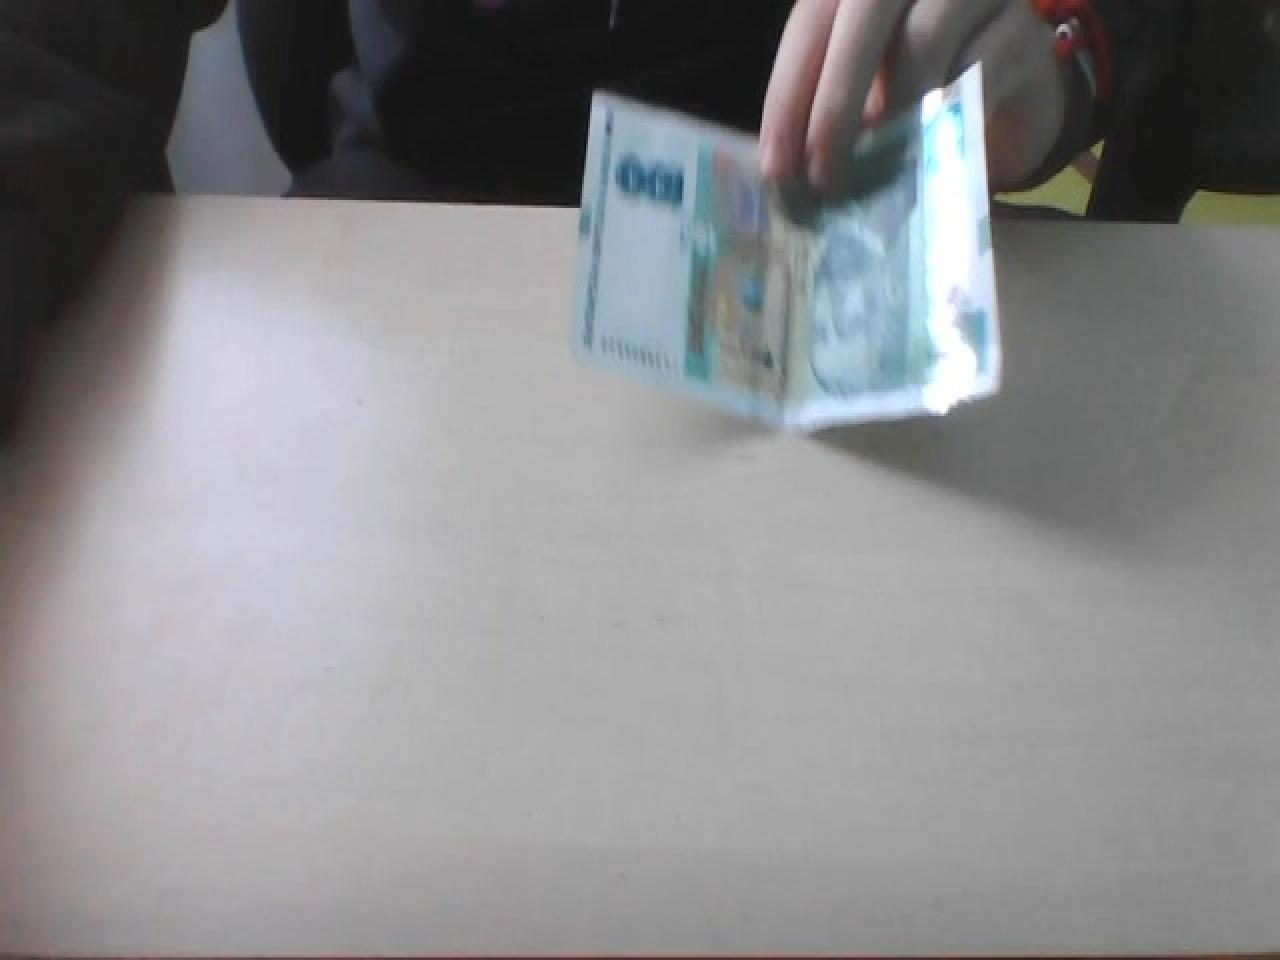100leva: (556, 94, 994, 435)
